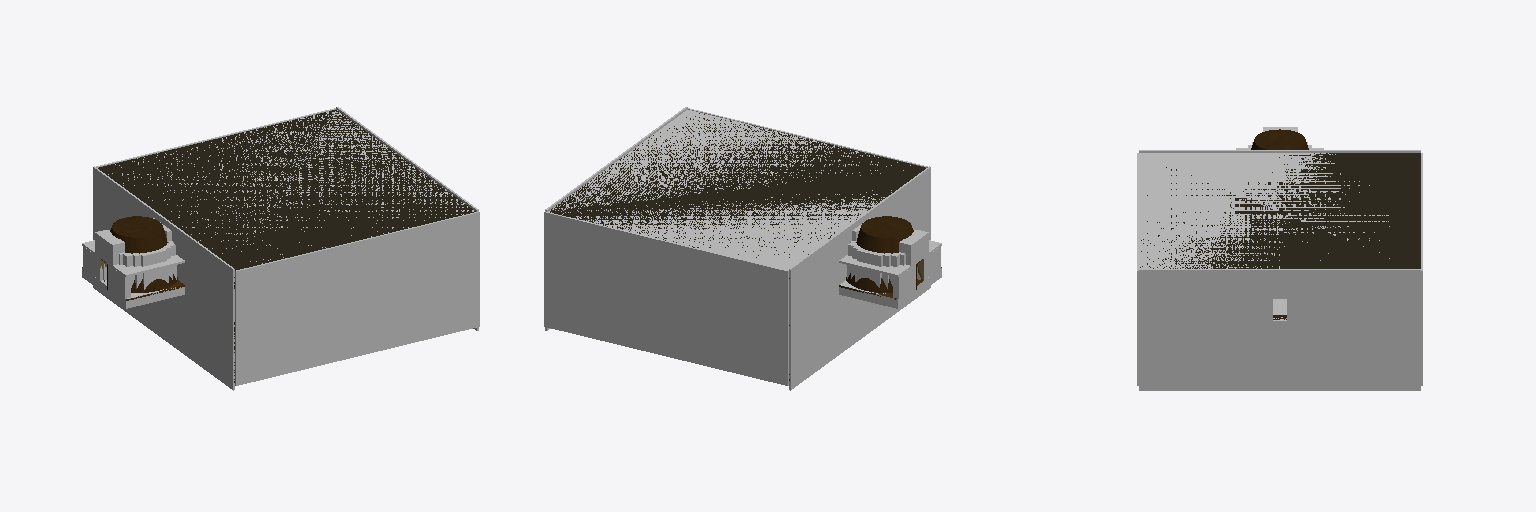
The picture shows the model from 3 angles: view 1: azimuth 30°, elevation 25°; view 2: azimuth 150°, elevation 25°; view 3: azimuth 270°, elevation 25°; orthographic projection.
Visible parts, largest first — view 1: swamp_room, UCX_swamp_42, UCX_swamp_50, UCX_swamp_38, UCX_swamp_51, UCX_swamp_49, UCX_swamp_36, UCX_swamp_52, UCX_swamp_37, UCX_swamp_44, UCX_swamp_48; view 2: UCX_swamp_43, swamp_room, UCX_swamp_38, UCX_swamp_50, UCX_swamp_51, UCX_swamp_48, UCX_swamp_36, UCX_swamp_52, UCX_swamp_37, UCX_swamp_49, UCX_swamp_44; view 3: UCX_swamp_45, swamp_room, UCX_swamp_38, UCX_swamp_44, UCX_swamp_47, UCX_swamp_46, UCX_swamp_51.
Part boxes in pixels (left/top/right/bottom): swamp_room: left=82, top=110, right=475, bottom=382; UCX_swamp_42: left=235, top=211, right=479, bottom=385; UCX_swamp_50: left=93, top=219, right=234, bottom=390; UCX_swamp_38: left=108, top=110, right=473, bottom=263; UCX_swamp_51: left=93, top=166, right=234, bottom=296; UCX_swamp_49: left=176, top=251, right=234, bottom=320; UCX_swamp_36: left=82, top=268, right=184, bottom=308; UCX_swamp_52: left=95, top=230, right=124, bottom=265; UCX_swamp_37: left=82, top=240, right=184, bottom=276; UCX_swamp_44: left=336, top=107, right=478, bottom=211; UCX_swamp_48: left=93, top=192, right=125, bottom=229; UCX_swamp_43: left=544, top=211, right=788, bottom=385; swamp_room: left=550, top=113, right=941, bottom=380; UCX_swamp_38: left=548, top=110, right=910, bottom=270; UCX_swamp_50: left=789, top=218, right=930, bottom=390; UCX_swamp_51: left=789, top=166, right=930, bottom=296; UCX_swamp_48: left=789, top=252, right=846, bottom=320; UCX_swamp_36: left=839, top=268, right=941, bottom=308; UCX_swamp_52: left=899, top=230, right=928, bottom=265; UCX_swamp_37: left=839, top=240, right=941, bottom=276; UCX_swamp_49: left=895, top=193, right=930, bottom=229; UCX_swamp_44: left=545, top=107, right=687, bottom=211; UCX_swamp_45: left=1139, top=321, right=1420, bottom=390; swamp_room: left=1140, top=129, right=1420, bottom=319; UCX_swamp_38: left=1139, top=153, right=1389, bottom=268; UCX_swamp_44: left=1139, top=269, right=1420, bottom=298; UCX_swamp_47: left=1287, top=293, right=1420, bottom=321; UCX_swamp_46: left=1139, top=293, right=1272, bottom=321; UCX_swamp_51: left=1139, top=150, right=1420, bottom=152.
Size of the model in its own units: 100 by 38 by 81.2.
9 materials, 5 textured.